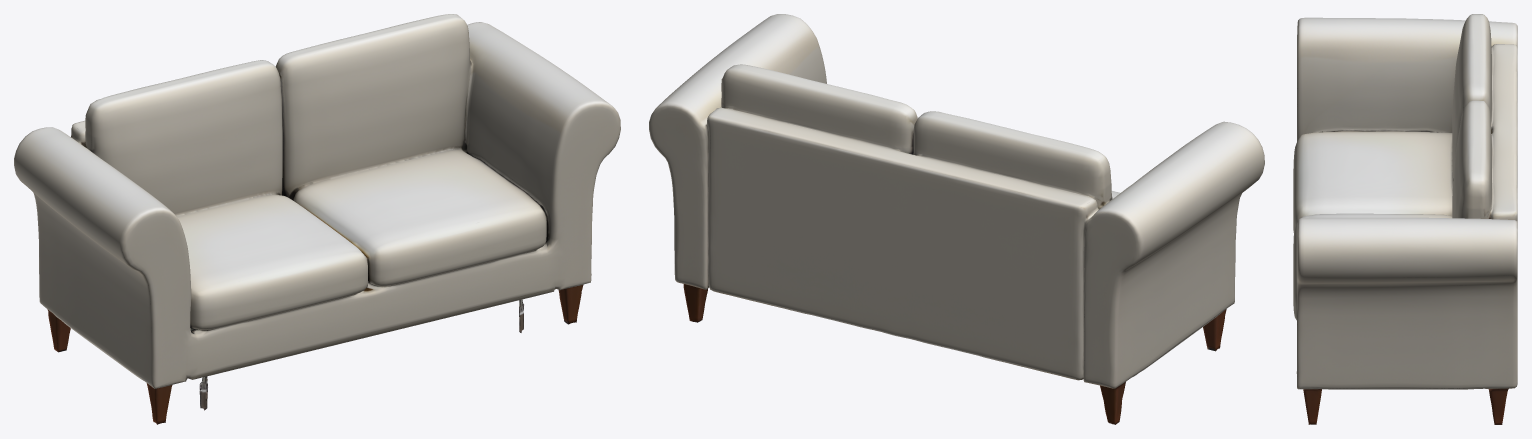
Rendered from sofa.glb.
3 views of the same model, side by side, from view 1: azimuth 30°, elevation 25°; view 2: azimuth 150°, elevation 25°; view 3: azimuth 270°, elevation 25° (orthographic). The views are drawn at different scales.
Visible parts, largest first — view 1: model; view 2: model; view 3: model.
Part boxes in pixels (x1,y1,x2,y2): model: [14, 14, 620, 424]; model: [649, 14, 1264, 424]; model: [1293, 14, 1517, 424].
Bounding box in the file's own units: 1.9 × 0.9144 × 0.7886.
1 material, 1 textured.
